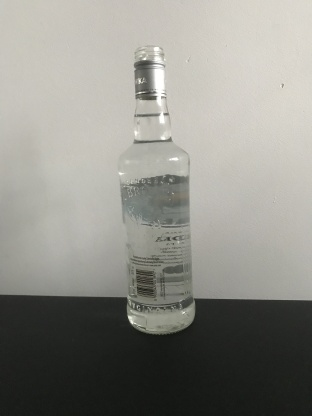nakretka: (132, 44, 167, 100)
